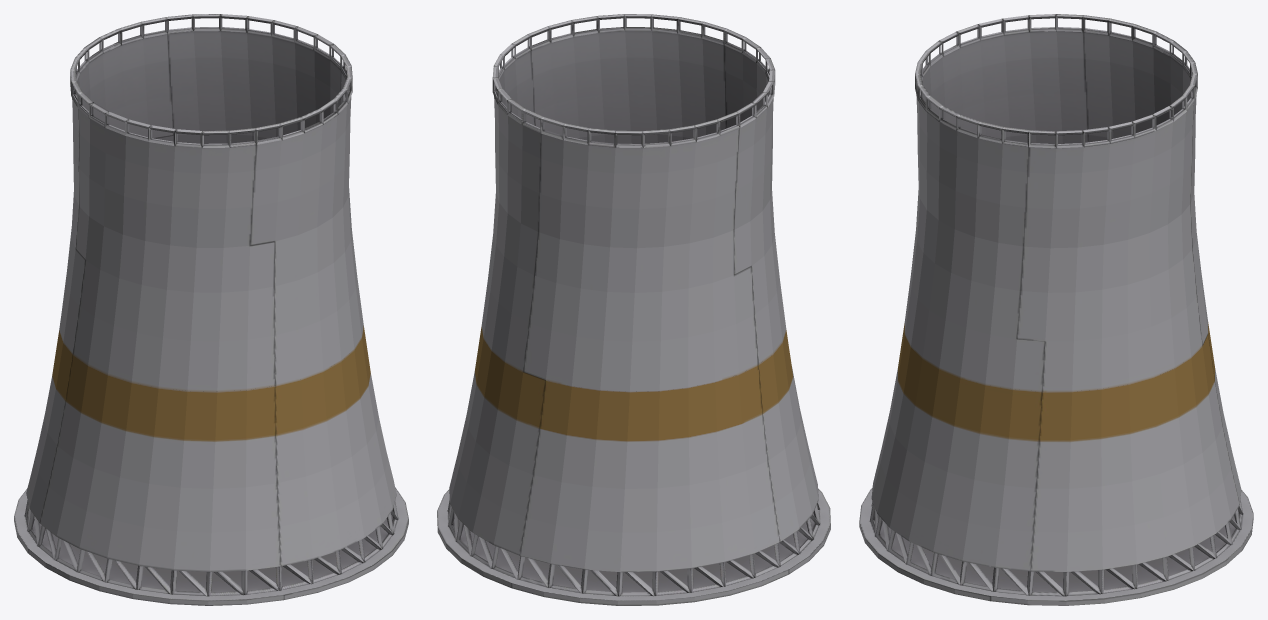
File: nuclearbuilding1.glb
3 views of the same model, side by side, from view 1: azimuth 30°, elevation 25°; view 2: azimuth 150°, elevation 25°; view 3: azimuth 270°, elevation 25° (orthographic).
Visible parts, largest first — view 1: Cylinder.008, Cylinder.009, Cylinder.010, Cylinder.006; view 2: Cylinder.008, Cylinder.009, Cylinder.010, Cylinder.006; view 3: Cylinder.008, Cylinder.009, Cylinder.010, Cylinder.006.
Part boxes in pixels (<box>): Cylinder.008: <box>26,31,396,571</box>; Cylinder.009: <box>14,487,408,605</box>; Cylinder.010: <box>70,14,352,147</box>; Cylinder.006: <box>24,500,398,596</box>; Cylinder.008: <box>449,31,818,572</box>; Cylinder.009: <box>437,489,830,605</box>; Cylinder.010: <box>492,14,775,148</box>; Cylinder.006: <box>447,500,820,596</box>; Cylinder.008: <box>871,31,1241,571</box>; Cylinder.009: <box>859,488,1253,605</box>; Cylinder.010: <box>915,14,1197,148</box>; Cylinder.006: <box>870,499,1242,596</box>.
Size of the model in its own units: 1.49 by 1.87 by 1.49.
Materials: 3 (3 with a texture image).
